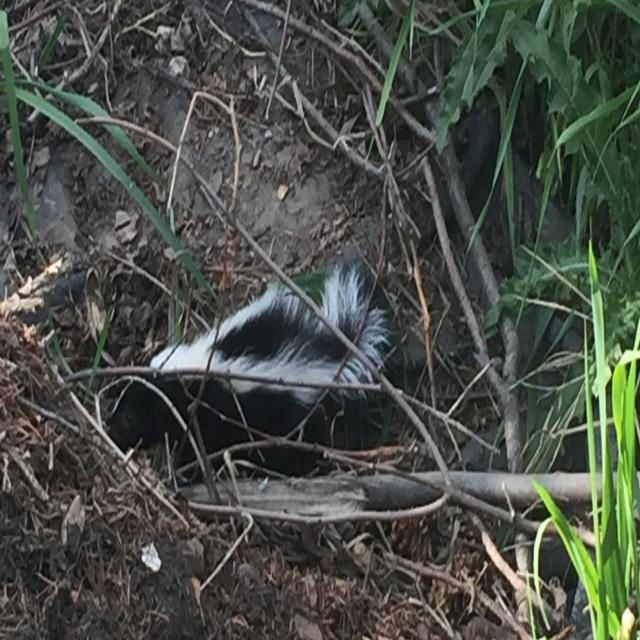Skunk: (85, 254, 398, 508)
